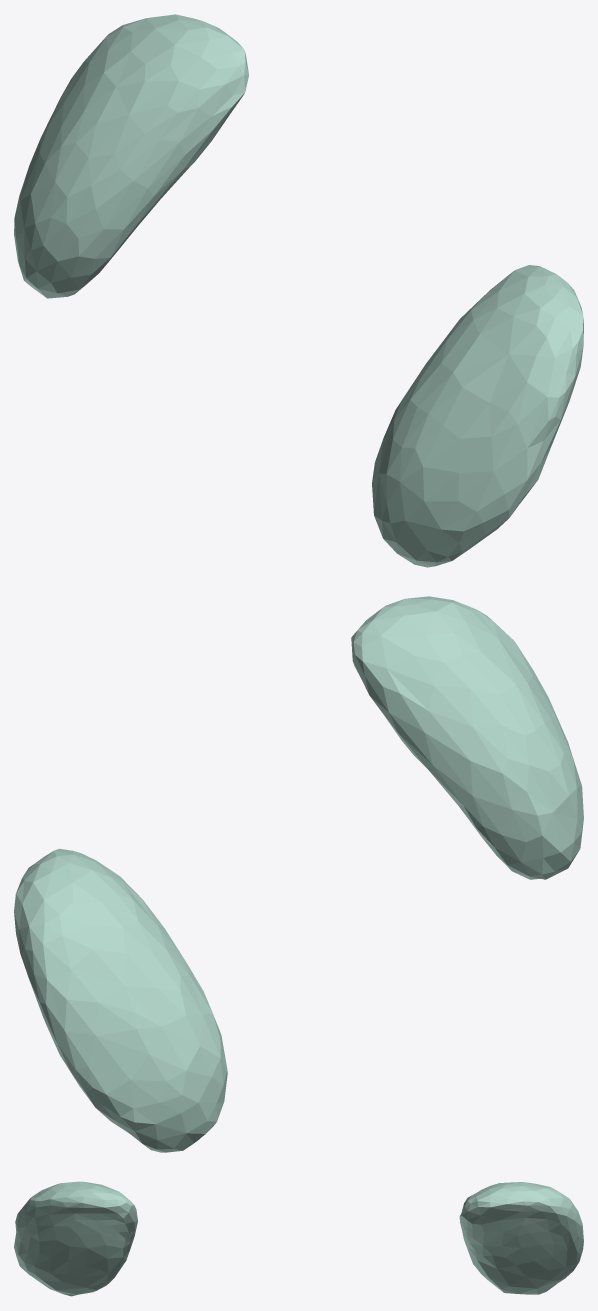
3 views of the same model, one above another, from view 1: azimuth 30°, elevation 25°; view 2: azimuth 150°, elevation 25°; view 3: azimuth 270°, elevation 25° (orthographic). The views are drawn at different scales.
Visible parts, largest first — view 1: 204.obj; view 2: 204.obj; view 3: 204.obj.
Part boxes in pixels (x1,y1,x2,y2): 204.obj: (14,14,583,567); 204.obj: (14,596,583,1152); 204.obj: (14,1181,583,1296).
Bounding box in the file's own units: 712 × 845 × 2950.
